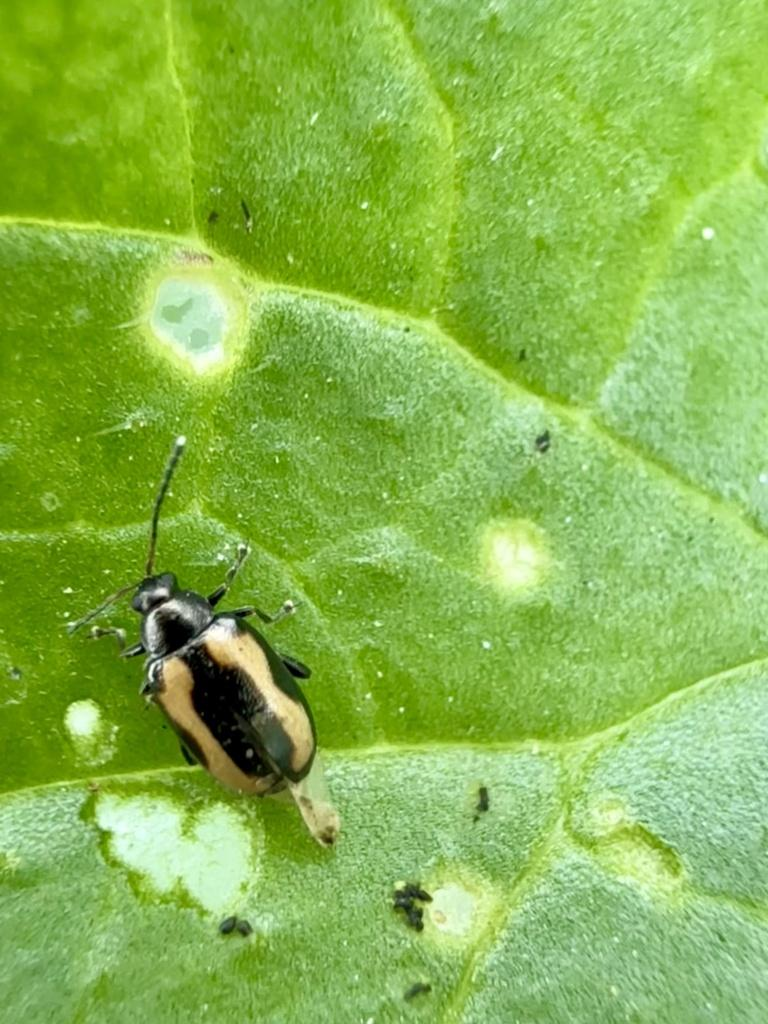flea_beetle: (24, 414, 423, 875)
